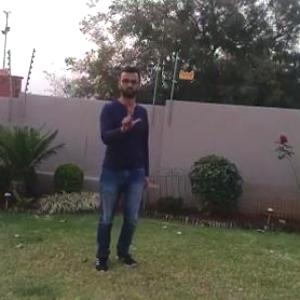land_hand: (118, 105, 146, 135)
